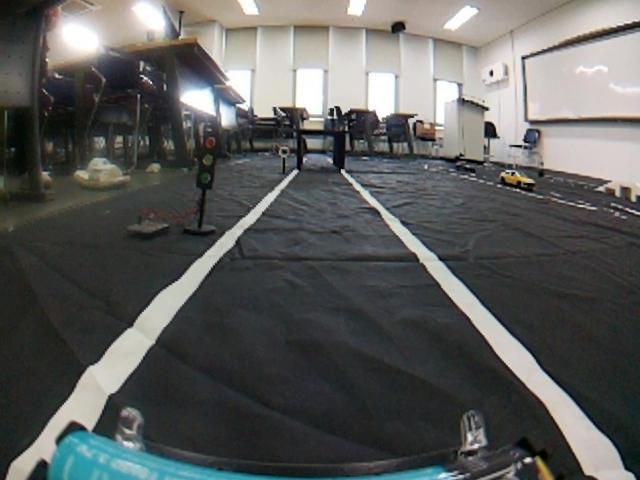green_light: (194, 120, 228, 198)
straight: (0, 238, 634, 479)
